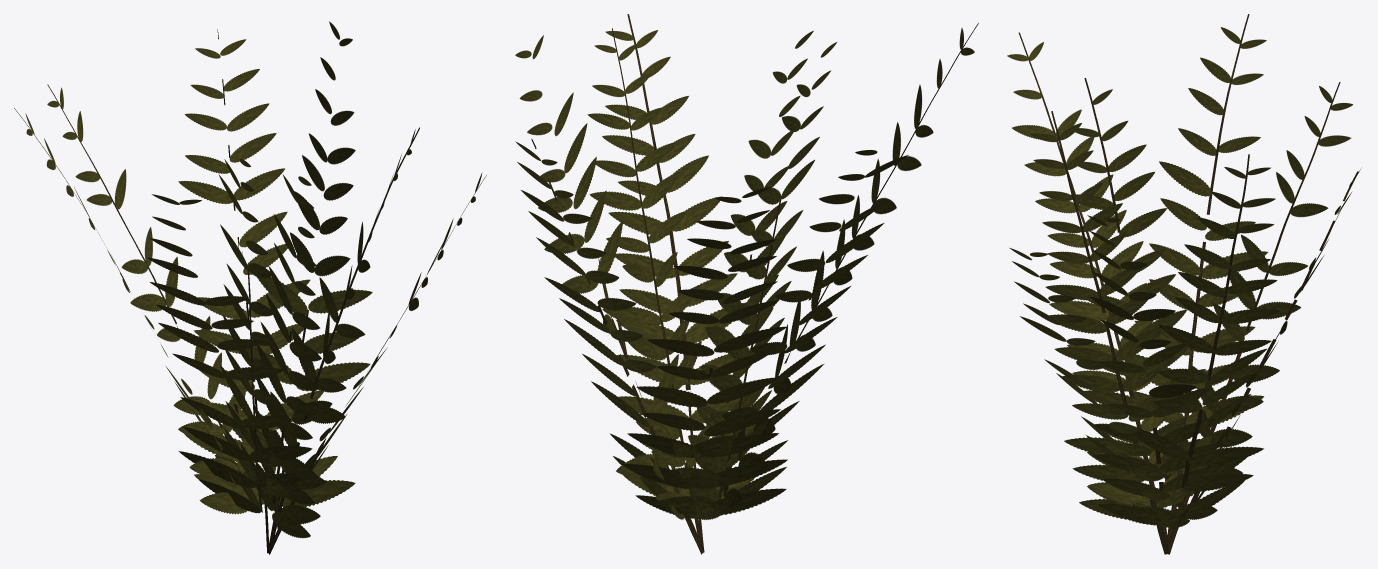
The model's file is royal_fern_v02_LOD1.glb.
3 renders of one model, left to right at view 1: azimuth 30°, elevation 25°; view 2: azimuth 150°, elevation 25°; view 3: azimuth 270°, elevation 25°, orthographic. The views are drawn at different scales.
Visible parts, largest first — view 1: royal_fern_v02_LOD1; view 2: royal_fern_v02_LOD1; view 3: royal_fern_v02_LOD1.
Part boxes in pixels (<box>): royal_fern_v02_LOD1: <box>14,21,486,554</box>; royal_fern_v02_LOD1: <box>515,14,978,554</box>; royal_fern_v02_LOD1: <box>1007,14,1360,554</box>.
Size of the model in its own units: 1.06 by 1.33 by 0.9416.
Materials: 2 (2 with a texture image).
